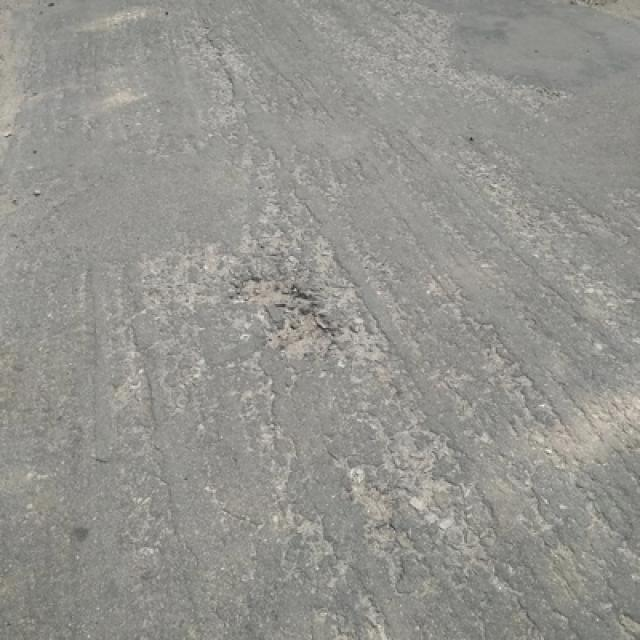jalan_berlubang: (215, 278, 340, 364)
